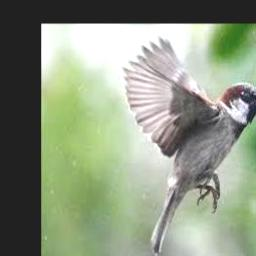Sparrow: (122, 35, 256, 256)
